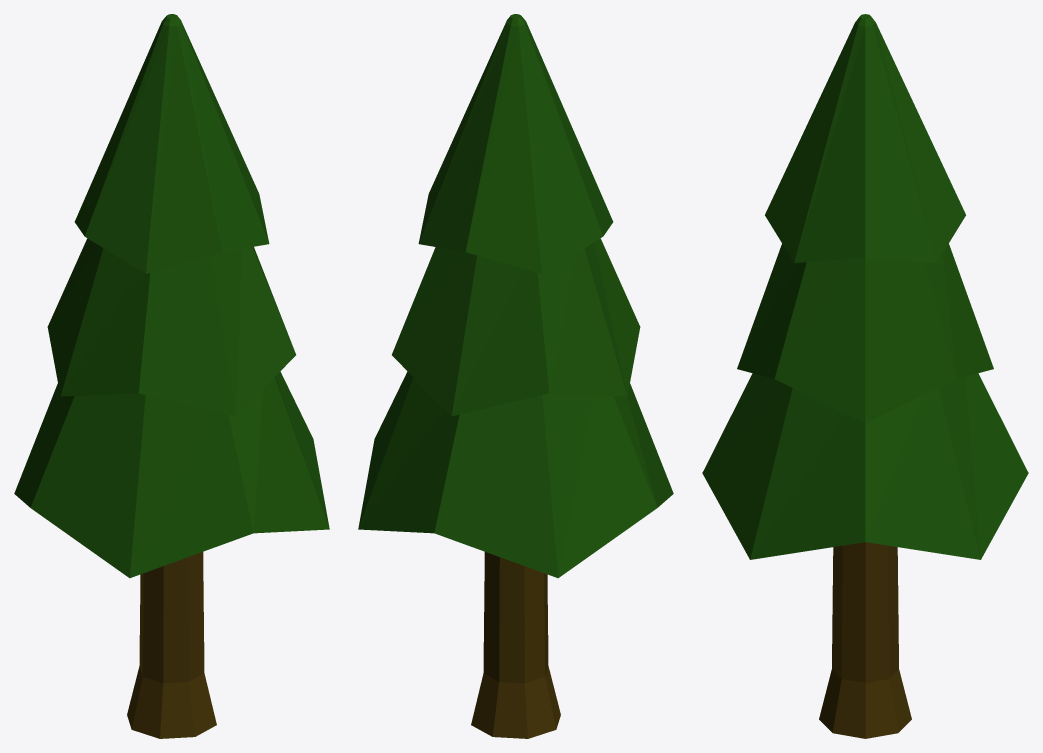
The model's file is PineTree3.FBX.
3 views of the same model, side by side, from view 1: azimuth 30°, elevation 25°; view 2: azimuth 150°, elevation 25°; view 3: azimuth 270°, elevation 25° (orthographic).
Parts seen in each view (by area): view 1: PineTree002, PineTrunk001; view 2: PineTree002, PineTrunk001; view 3: PineTree002, PineTrunk001.
Part boxes in pixels (x1,y1,x2,y2): PineTree002: [14, 14, 329, 578]; PineTrunk001: [127, 552, 216, 738]; PineTree002: [358, 14, 673, 578]; PineTrunk001: [471, 552, 560, 738]; PineTree002: [702, 14, 1028, 559]; PineTrunk001: [819, 542, 911, 738].
Size of the model in its own units: 19.9 by 47.28 by 19.9.
